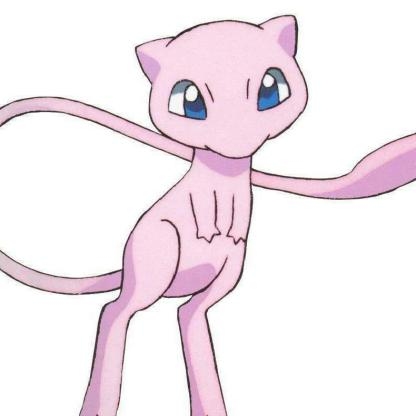Mew: (1, 5, 416, 416)
